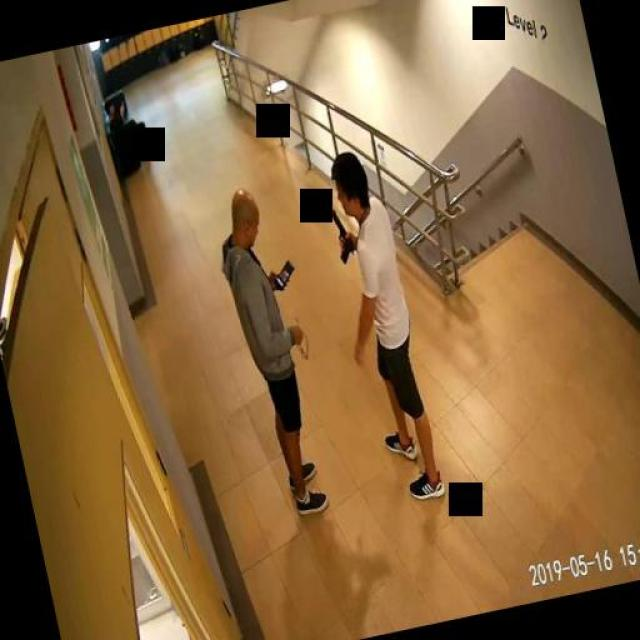gun: (329, 204, 355, 262)
